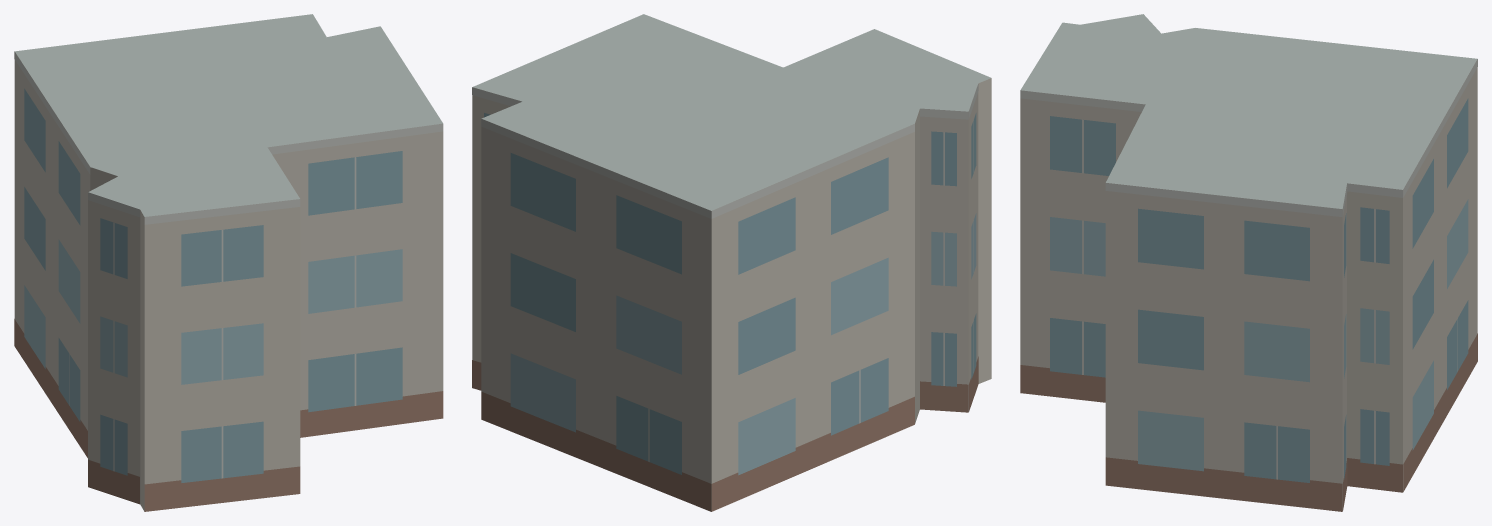
File: survey-upis-32472083.glb
The picture shows the model from 3 angles, left to right: view 1: azimuth 30°, elevation 25°; view 2: azimuth 150°, elevation 25°; view 3: azimuth 270°, elevation 25°; orthographic projection. The views are drawn at different scales.
Visible parts, largest first — view 1: survey-upis-32472083.tmp; view 2: survey-upis-32472083.tmp; view 3: survey-upis-32472083.tmp.
Boxes of the visible parts, <box> form: survey-upis-32472083.tmp: <box>14,14,443,511</box>; survey-upis-32472083.tmp: <box>472,14,991,511</box>; survey-upis-32472083.tmp: <box>1020,14,1477,511</box>.
Bounding box in the file's own units: 12.66 × 9.15 × 12.54.
